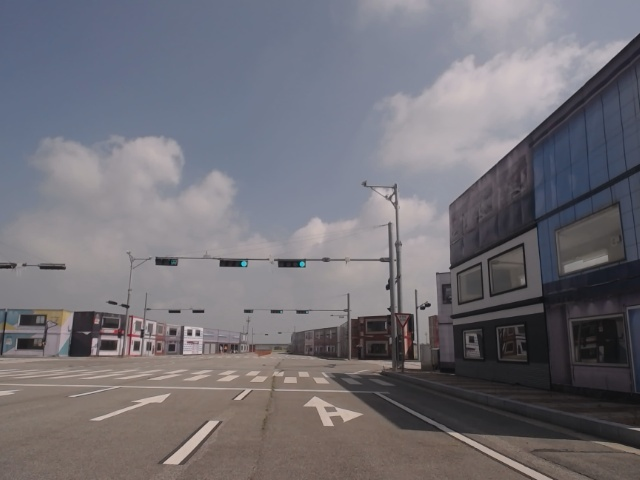straight_green_4: (218, 258, 247, 268), (276, 259, 306, 268)
